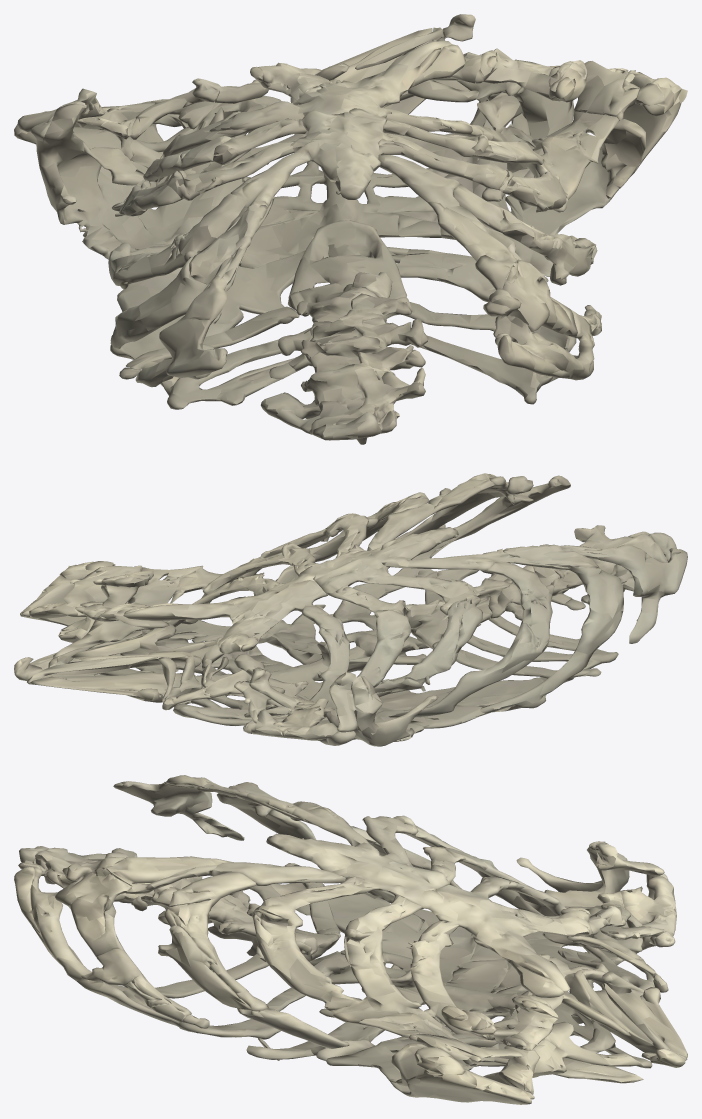
File: valley_tripo_ribs.glb
The picture shows the model from 3 angles, top to bottom: view 1: azimuth 30°, elevation 25°; view 2: azimuth 150°, elevation 25°; view 3: azimuth 270°, elevation 25°; orthographic projection. The views are drawn at different scales.
Visible parts, largest first — view 1: Rib cage and thoracic spine; view 2: Rib cage and thoracic spine; view 3: Rib cage and thoracic spine.
Part boxes in pixels (left/top/right/bottom): Rib cage and thoracic spine: left=14, top=14, right=687, bottom=444; Rib cage and thoracic spine: left=14, top=473, right=687, bottom=746; Rib cage and thoracic spine: left=14, top=775, right=687, bottom=1104.
Size of the model in its own units: 5.9 by 1.48 by 6.13.
1 material, 1 textured.
